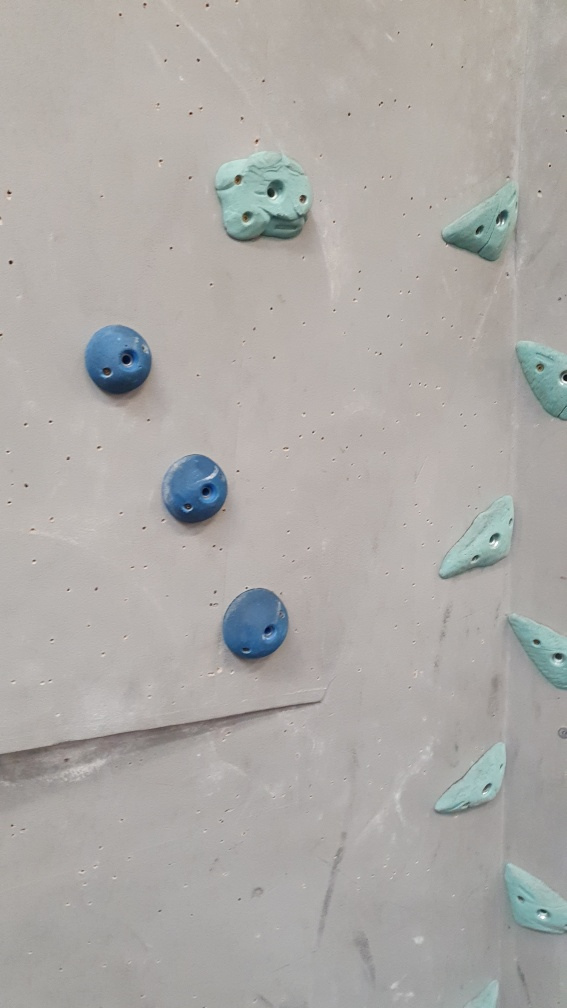Crimp: (434, 491, 520, 585), (439, 178, 521, 266), (427, 737, 512, 818), (509, 326, 567, 430), (502, 606, 567, 695), (499, 854, 567, 939)
Sloper: (80, 319, 158, 401), (218, 587, 296, 663), (160, 452, 235, 529)
